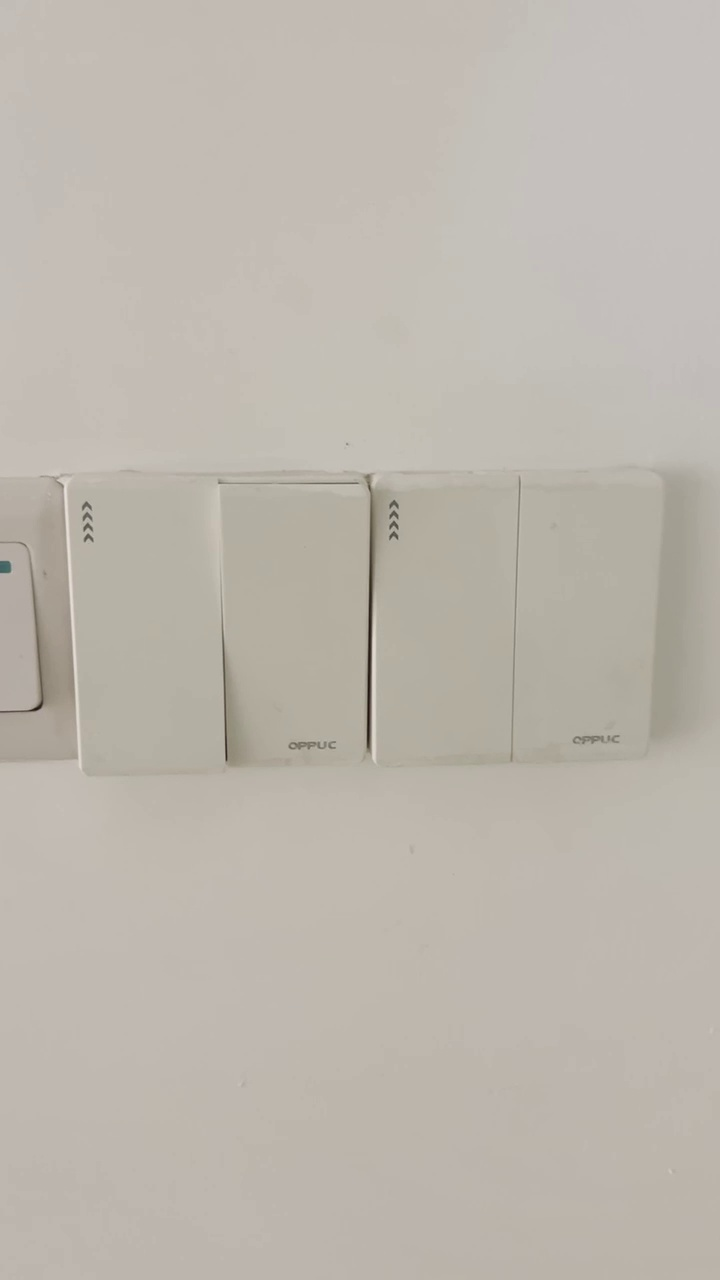button1: (70, 479, 224, 770), (517, 486, 653, 770), (228, 489, 367, 764), (378, 482, 512, 758)
